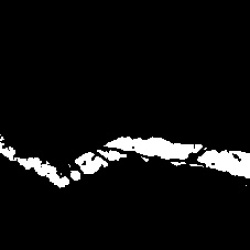crack: (0, 147, 69, 187), (107, 136, 202, 159), (195, 149, 248, 178), (73, 153, 107, 175), (97, 150, 126, 162), (170, 162, 204, 167), (73, 173, 78, 182)
